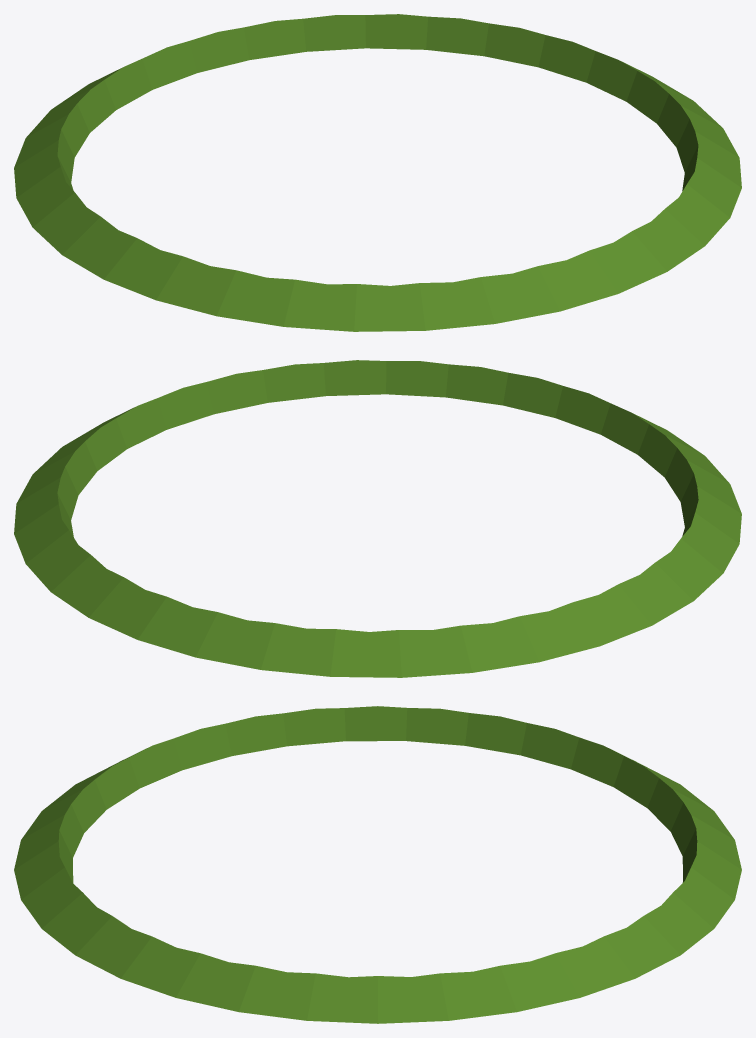
Rendered from _processed.dae.
The picture shows the model from 3 angles, top to bottom: view 1: azimuth 30°, elevation 25°; view 2: azimuth 150°, elevation 25°; view 3: azimuth 270°, elevation 25°; orthographic projection.
Visible parts, largest first — view 1: Cone; view 2: Cone; view 3: Cone.
Boxes of the visible parts, <box> form: Cone: <box>14,14,741,331</box>; Cone: <box>14,360,741,677</box>; Cone: <box>14,706,741,1023</box>.
Bounding box in the file's own units: 1400 × 1400 × 61.48.
